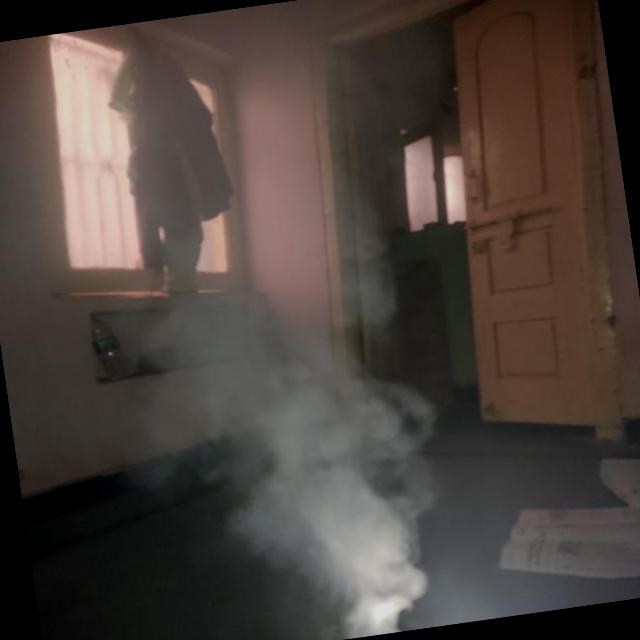smoke: (185, 297, 460, 640)
